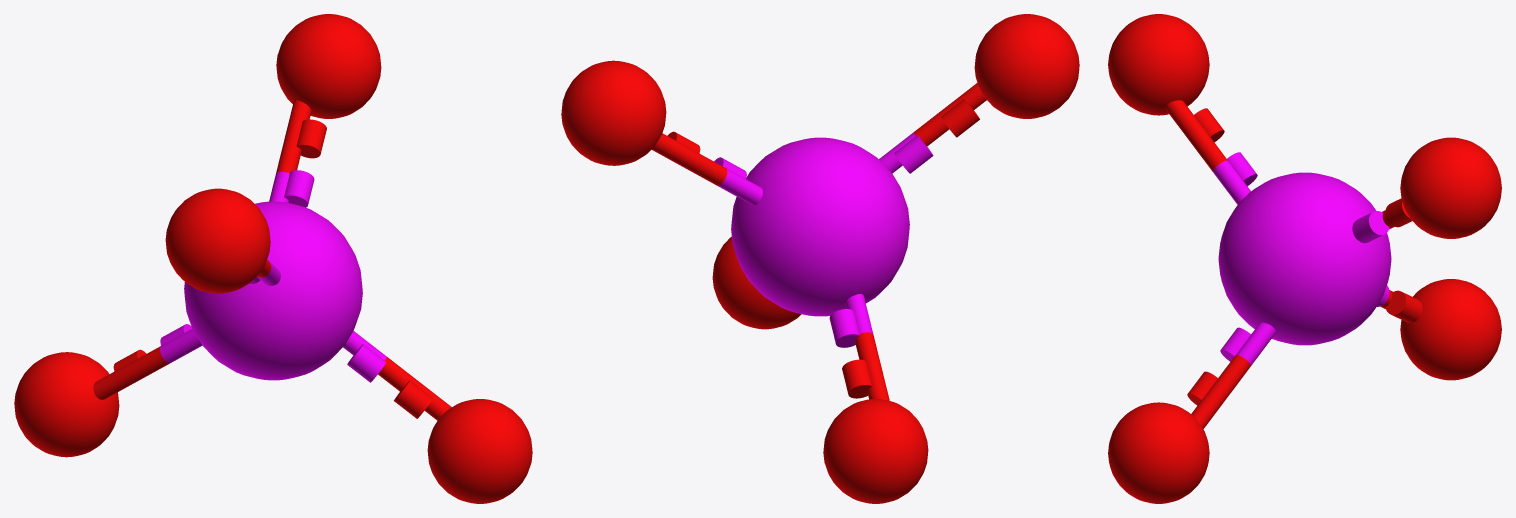
The model's file is phosphate.fbx.
3 views of the same model, side by side, from view 1: azimuth 30°, elevation 25°; view 2: azimuth 150°, elevation 25°; view 3: azimuth 270°, elevation 25° (orthographic). The views are drawn at different scales.
Parts seen in each view (by area): view 1: P01, O03, O05, O02, O04, P01%O02, P01%O05, P01%O04; view 2: P01, O02, O03, O04, P01%O04, O05, P01%O03, P01%O02; view 3: P01, O02, O05, O03, O04, P01%O05, P01%O03, P01%O02, P01%O04.
Part boxes in pixels (x1=…): P01: x1=184, y1=201, x2=362, y2=380; O03: x1=165, y1=188, x2=270, y2=293; O05: x1=427, y1=399, x2=532, y2=503; O02: x1=276, y1=14, x2=381, y2=118; O04: x1=14, y1=352, x2=119, y2=457; P01%O02: x1=269, y1=100, x2=326, y2=207; P01%O05: x1=343, y1=331, x2=451, y2=420; P01%O04: x1=93, y1=324, x2=202, y2=399; P01: x1=731, y1=137, x2=909, y2=316; O02: x1=561, y1=60, x2=666, y2=165; O03: x1=974, y1=14, x2=1079, y2=118; O04: x1=823, y1=399, x2=928, y2=503; P01%O04: x1=829, y1=294, x2=889, y2=400; O05: x1=712, y1=236, x2=801, y2=329; P01%O03: x1=879, y1=83, x2=986, y2=173; P01%O02: x1=651, y1=131, x2=762, y2=205; P01: x1=1218, y1=172, x2=1391, y2=345; O02: x1=1400, y1=137, x2=1501, y2=238; O05: x1=1108, y1=402, x2=1209, y2=503; O03: x1=1108, y1=14, x2=1209, y2=115; O04: x1=1400, y1=279, x2=1501, y2=380; P01%O05: x1=1187, y1=322, x2=1276, y2=428; P01%O03: x1=1165, y1=100, x2=1257, y2=204; P01%O02: x1=1352, y1=198, x2=1411, y2=243; P01%O04: x1=1376, y1=285, x2=1422, y2=322.
Size of the model in its own units: 248 by 248 by 248.
